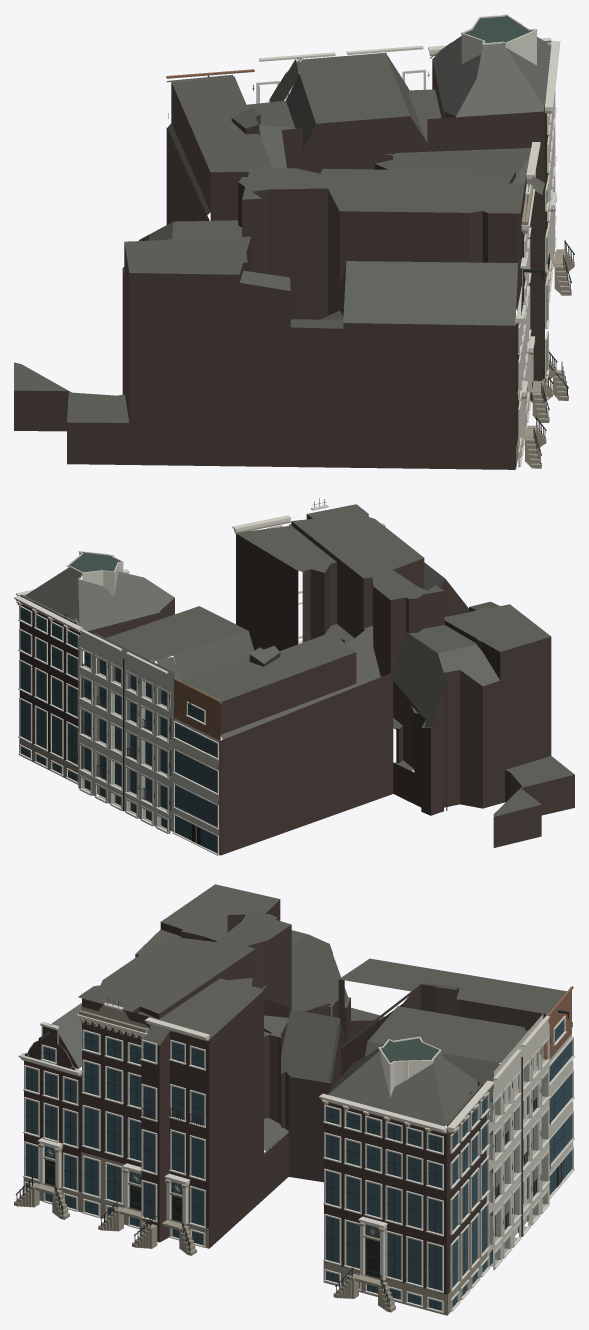
3 views of the same model, one above another, from view 1: azimuth 30°, elevation 25°; view 2: azimuth 150°, elevation 25°; view 3: azimuth 270°, elevation 25° (orthographic). The views are drawn at different scales.
Visible parts, largest first — view 1: 0363100012171101; view 2: 0363100012171101; view 3: 0363100012171101.
Part boxes in pixels (left/top/right/bottom): 0363100012171101: left=14, top=14, right=574, bottom=469; 0363100012171101: left=14, top=498, right=574, bottom=855; 0363100012171101: left=14, top=884, right=574, bottom=1315.
Bounding box in the file's own units: 51.61 × 20.15 × 44.12.
